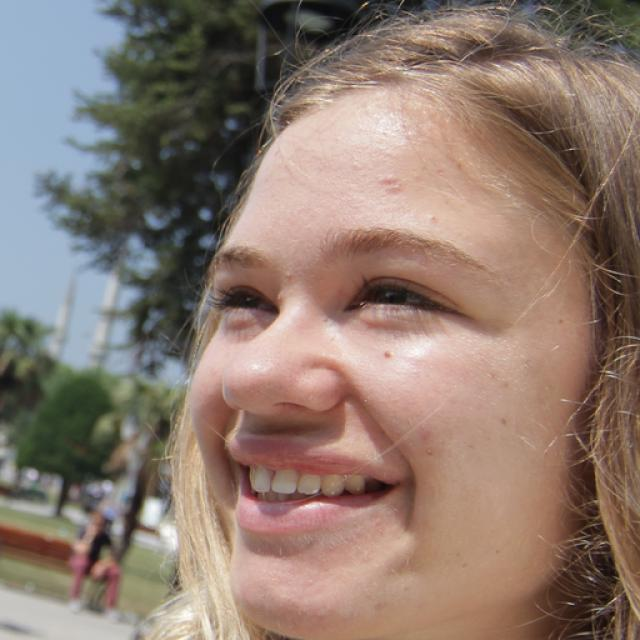Acne: (371, 174, 412, 198), (419, 211, 444, 230), (275, 264, 298, 284), (267, 287, 289, 307), (377, 343, 396, 365), (421, 445, 438, 460)
